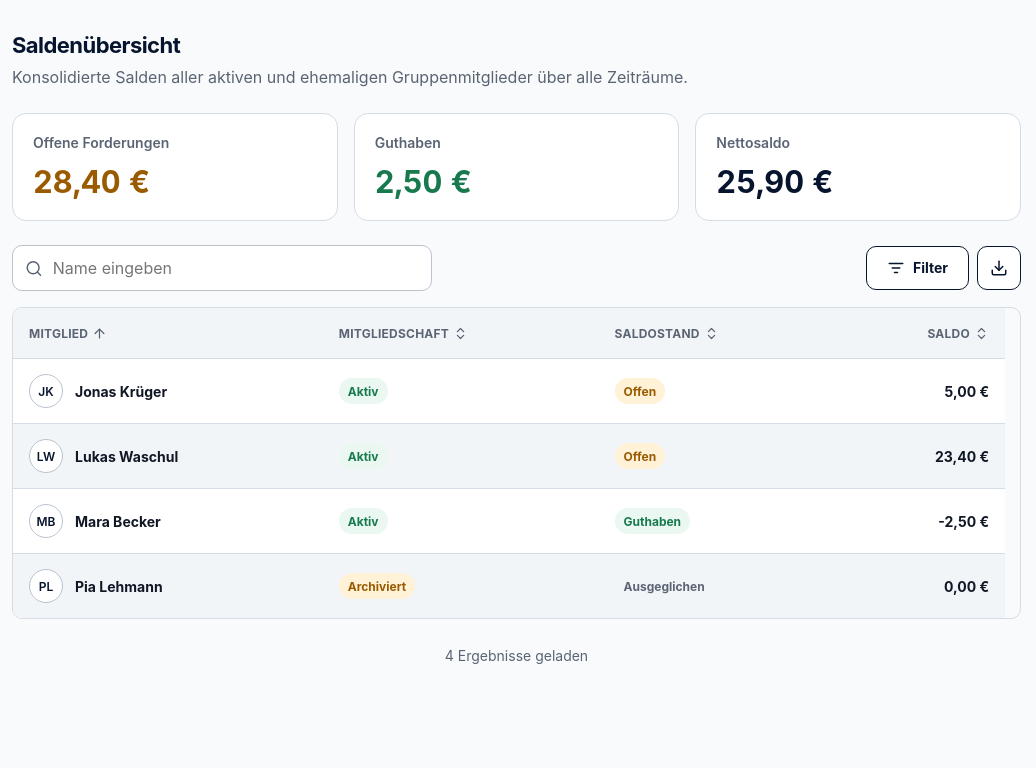
Test case: AccountBalancesPanel › filters all membership statuses by display name
The image size is (1036, 768).
Expected: the text "Offene Forderungen" is shown, [33, 134, 169, 151]
In the search field named "Mitglieder suchen": (235, 268) [51, 257, 419, 279], type "Pia"
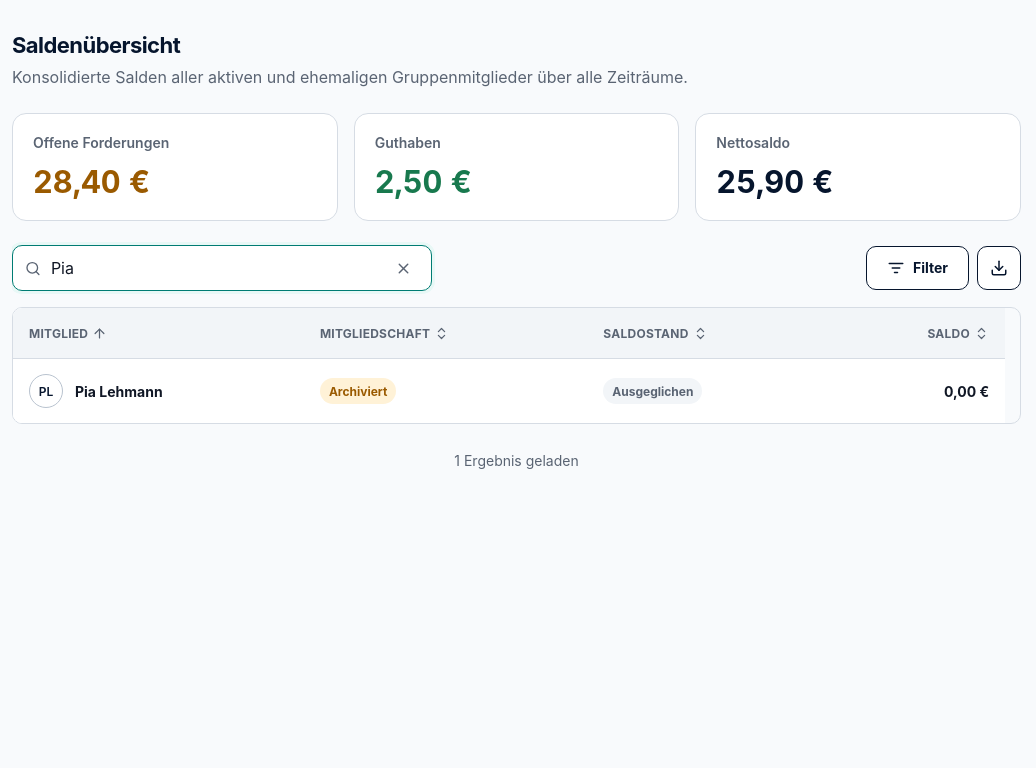
Expected: the text "Pia Lehmann" is shown, [75, 383, 163, 400]
Now the text "Lukas Waschul" is gone
